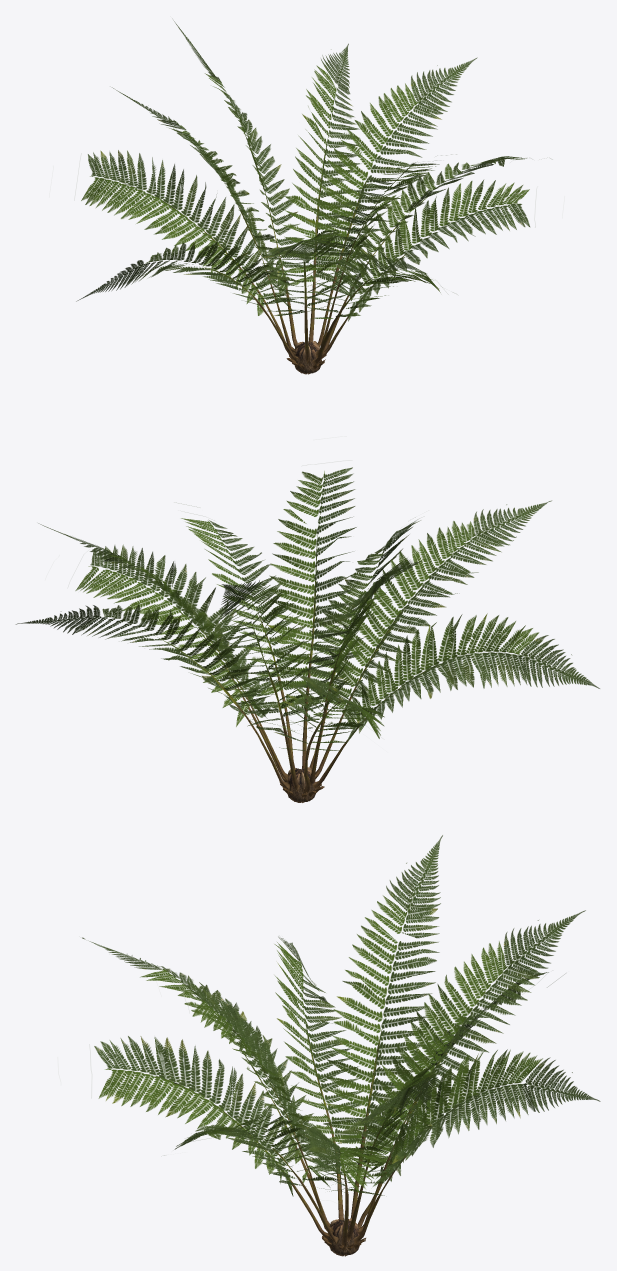
The model's file is fern.glb.
3 views of the same model, one above another, from view 1: azimuth 30°, elevation 25°; view 2: azimuth 150°, elevation 25°; view 3: azimuth 270°, elevation 25° (orthographic). The views are drawn at different scales.
Parts seen in each view (by area): view 1: Dryopteris_filix_mas_HD; view 2: Dryopteris_filix_mas_HD; view 3: Dryopteris_filix_mas_HD.
Part boxes in pixels (x1,y1,x2,y2): Dryopteris_filix_mas_HD: [76, 20, 530, 374]; Dryopteris_filix_mas_HD: [16, 467, 599, 802]; Dryopteris_filix_mas_HD: [82, 835, 600, 1256].
Bounding box in the file's own units: 2.23 × 1.2 × 1.9.
Materials: 5 (5 with a texture image).
